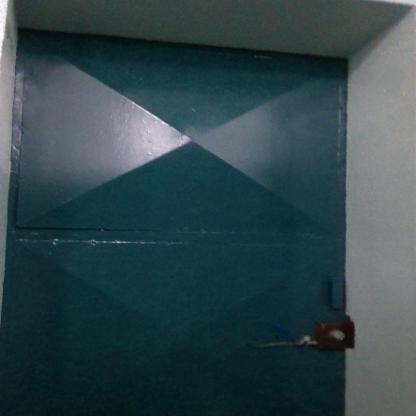door: (12, 32, 352, 416)
